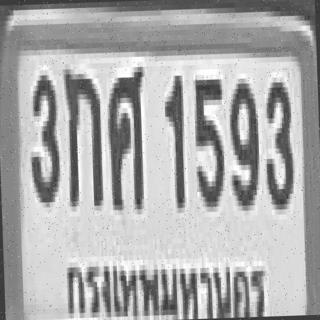A01: (61, 66, 101, 204)
A38: (106, 61, 146, 205)
N01: (162, 70, 184, 203)
N03: (26, 70, 59, 202), (262, 77, 292, 205)
N05: (191, 74, 223, 202)
N09: (226, 73, 259, 206)
P04: (60, 244, 269, 320)
